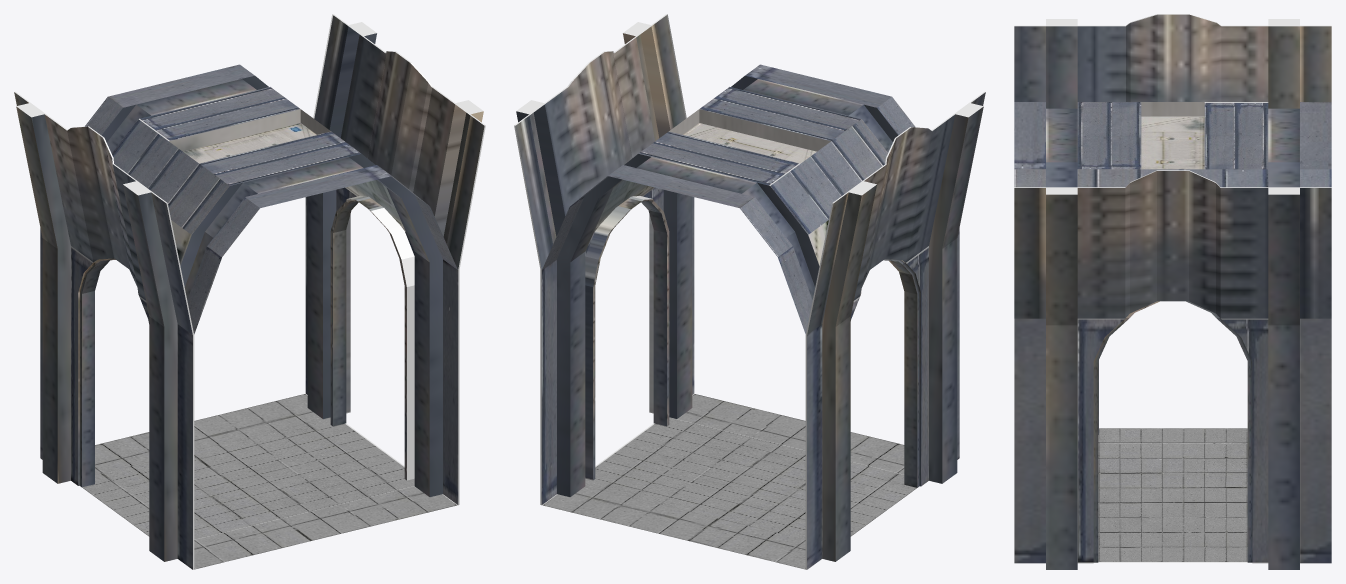
The model's file is door_hallway_2.fbx.
3 renders of one model, left to right at view 1: azimuth 30°, elevation 25°; view 2: azimuth 150°, elevation 25°; view 3: azimuth 270°, elevation 25°, orthographic. The views are drawn at different scales.
Parts seen in each view (by area): view 1: Plane; view 2: Plane; view 3: Plane.
Part boxes in pixels (x1,y1,x2,y2): Plane: (14, 14, 485, 569); Plane: (514, 14, 985, 569); Plane: (1014, 14, 1331, 569).
Bounding box in the file's own units: 262 × 280 × 200.
